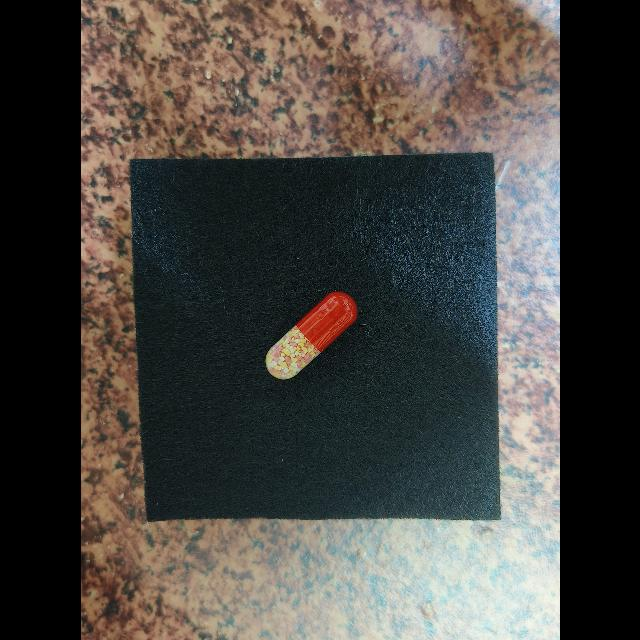Intact Capsule: (265, 292, 357, 379)
